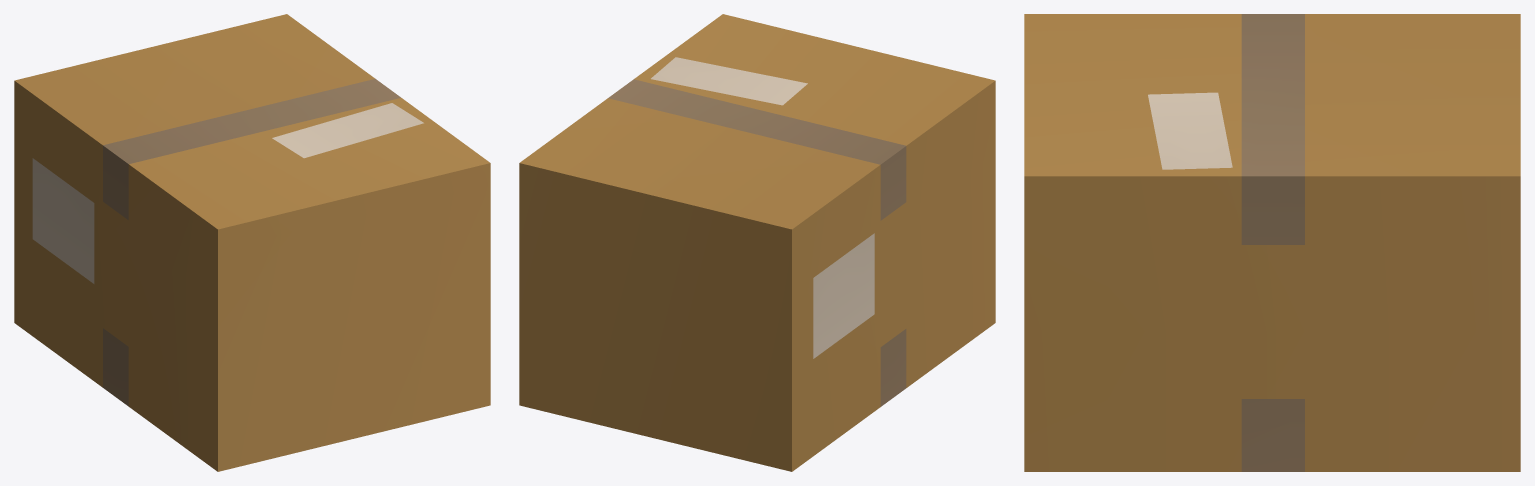
The model's file is package3.fbx.
3 views of the same model, side by side, from view 1: azimuth 30°, elevation 25°; view 2: azimuth 150°, elevation 25°; view 3: azimuth 270°, elevation 25° (orthographic). The views are drawn at different scales.
Visible parts, largest first — view 1: polySurface1070; view 2: polySurface1070; view 3: polySurface1070.
Boxes of the visible parts, x1,y1,x2,y2 form: polySurface1070: (14,14,490,471); polySurface1070: (519,14,995,471); polySurface1070: (1024,14,1520,471).
Bounding box in the file's own units: 5.37 × 4.55 × 6.91.
1 material, 1 textured.
